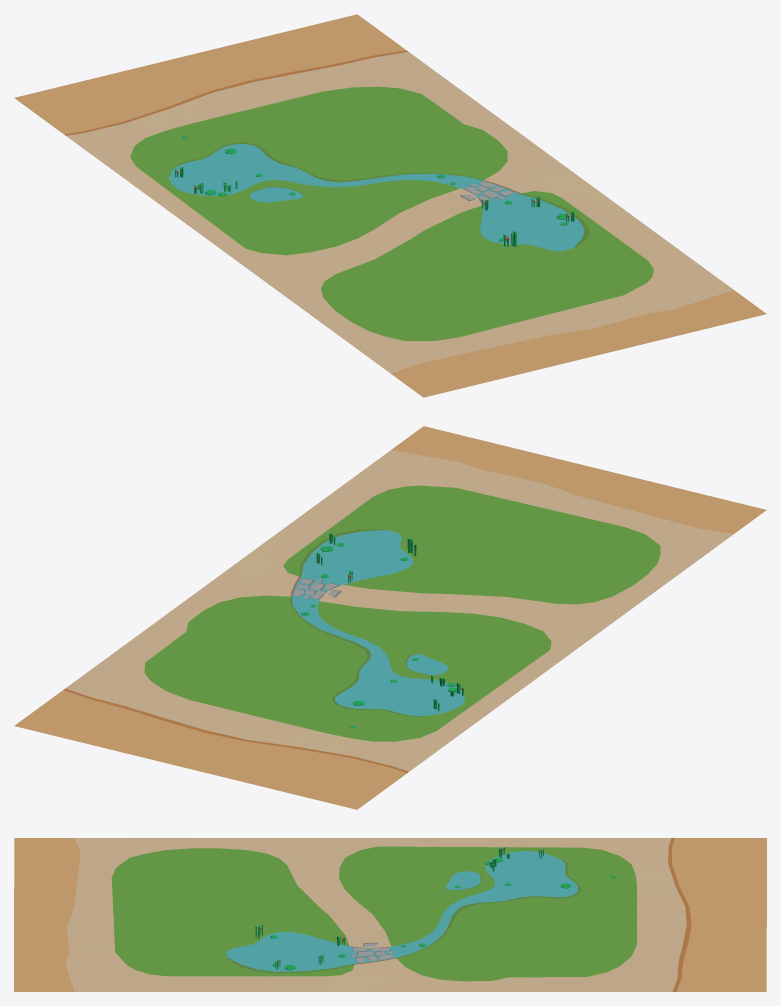
Rendered from west_kuozhan_05.FBX.
3 renders of one model, top to bottom at view 1: azimuth 30°, elevation 25°; view 2: azimuth 150°, elevation 25°; view 3: azimuth 270°, elevation 25°, orthographic. The views are drawn at different scales.
Parts seen in each view (by area): view 1: west_kuozhan_05; view 2: west_kuozhan_05; view 3: west_kuozhan_05.
Part boxes in pixels (box(x1,y1,x2,y2)): west_kuozhan_05: box(14, 14, 766, 397); west_kuozhan_05: box(14, 426, 766, 809); west_kuozhan_05: box(14, 838, 766, 991).
Size of the model in its own units: 10600 by 648 by 21918.
Materials: 1 (1 with a texture image).
